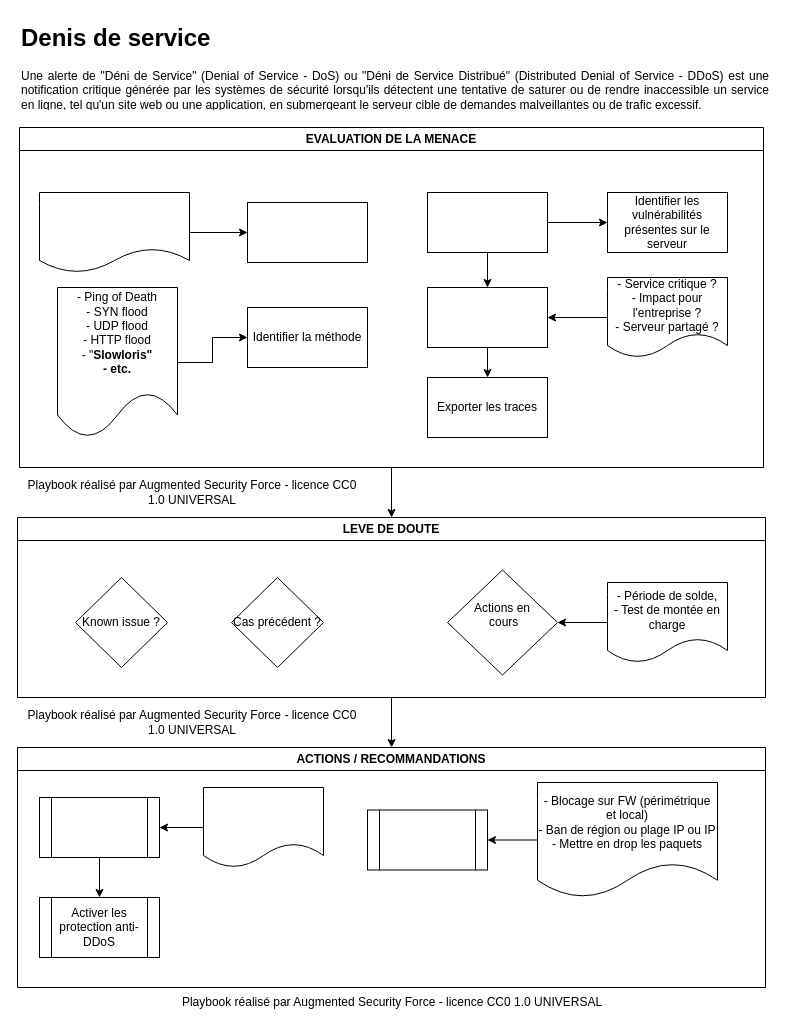
The diagram is 787 pixels wide and 1034 high, and some of its shapes have lost their labels. Each missing label, with the centre of its shape:
"- Attention aux SaaS / IaaS avec coût basé sur utilisation de la BP." goes at point (263, 827).
"- Une seule attaque ou plusieurs ? - Volumétrie" goes at point (114, 232).
"Avertir les fournisseurs de lien" goes at point (99, 827).
"Blocage des IP identifiées" goes at point (427, 839).
"Graphique du traffic" goes at point (307, 232).
"Identifier le(s) service(s) ciblés" goes at point (487, 317).
"Identifier serveur cible" goes at point (487, 222).
